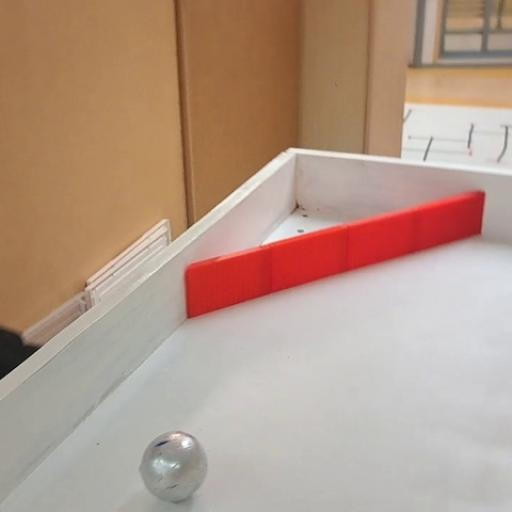alive: (137, 429, 210, 504)
